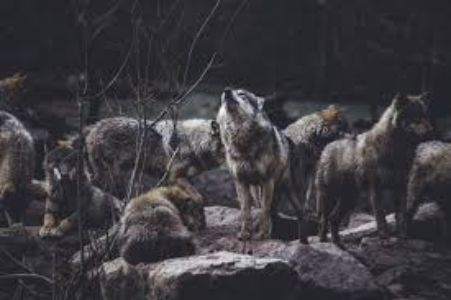wolf: (214, 84, 310, 244), (371, 88, 441, 237), (39, 127, 106, 236), (122, 183, 208, 252), (317, 97, 356, 160)
